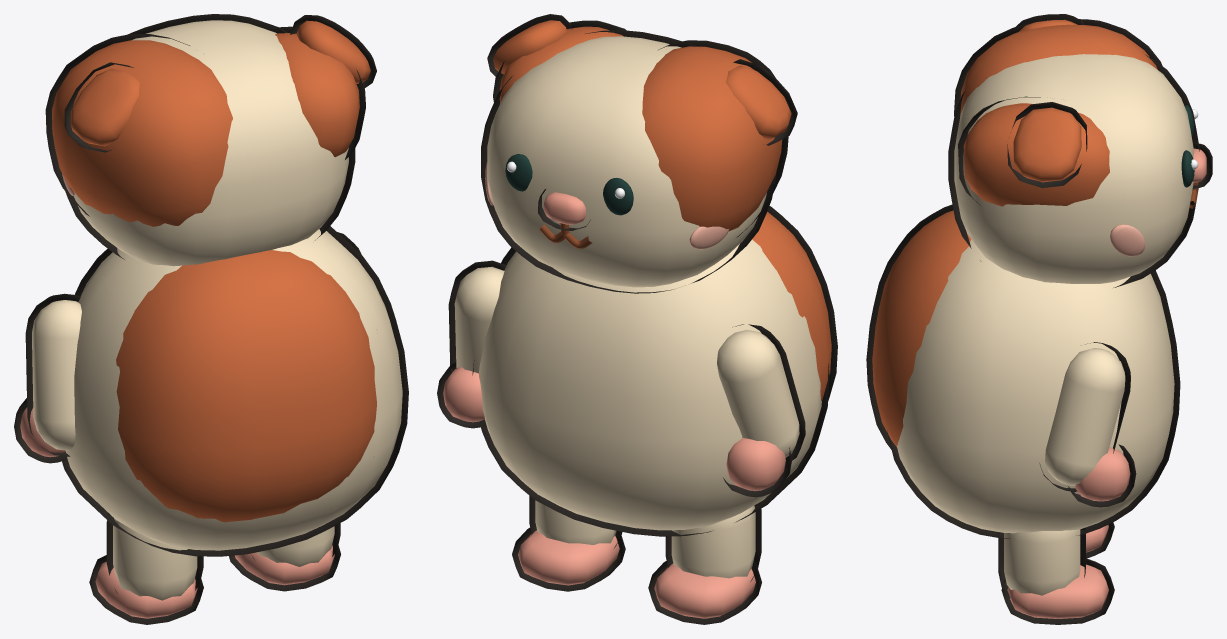
The model's file is guineapig.glb.
The picture shows the model from 3 angles, left to right: view 1: azimuth 30°, elevation 25°; view 2: azimuth 150°, elevation 25°; view 3: azimuth 270°, elevation 25°; orthographic projection. The views are drawn at different scales.
Visible parts, largest first — view 1: Torso_patch, Head_patch, Torso_fur, Head_fur, LeftArm_fur, Head_detail, Torso_detail, LeftLeg_fur, LeftLeg_pink, RightLeg_pink, LeftArm_detail, LeftLeg_detail (+3 smaller); view 2: Torso_fur, Head_fur, Head_patch, Head_detail, LeftArm_fur, Torso_patch, LeftLeg_fur, Torso_detail, LeftLeg_pink, RightLeg_pink, RightArm_fur, LeftArm_pink (+9 smaller); view 3: Torso_fur, Head_fur, Head_patch, Torso_patch, RightArm_fur, Head_detail, Torso_detail, RightLeg_fur, RightLeg_pink, RightArm_pink, RightLeg_detail, RightArm_detail.
Boxes of the visible parts, x1,y1,x2,y2 form: Torso_patch: (116,250,376,522); Head_patch: (52,20,370,226); Torso_fur: (65,229,402,550); Head_fur: (73,20,348,266); LeftArm_fur: (32,300,81,450); Head_detail: (45,14,376,259); Torso_detail: (62,226,408,556); LeftLeg_fur: (113,518,197,600); LeftLeg_pink: (95,561,197,618); RightLeg_pink: (235,545,334,585); LeftArm_detail: (14,293,80,463); LeftLeg_detail: (89,513,203,624); Torso_fur: (479,239,821,530); Head_fur: (487,36,766,287); Head_patch: (493,20,791,231); Head_detail: (481,14,797,293); LeftArm_fur: (717,330,799,457); Torso_patch: (752,211,831,401); LeftLeg_fur: (671,506,755,578); Torso_detail: (472,206,837,536); LeftLeg_pink: (654,563,755,618); RightLeg_pink: (518,530,619,585); RightArm_fur: (454,266,504,373); LeftArm_pink: (726,438,785,491); Torso_fur: (897,239,1174,533); Head_fur: (954,54,1194,283); Head_patch: (960,19,1157,206); Torso_patch: (872,210,971,446); RightArm_fur: (1045,348,1125,485); Head_detail: (948,14,1212,287); Torso_detail: (866,204,1180,538); RightLeg_fur: (1004,529,1080,595); RightLeg_pink: (1007,564,1108,618); RightArm_pink: (1074,447,1130,501); RightLeg_detail: (998,527,1114,624); RightArm_detail: (1039,342,1136,507).
Size of the model in its own units: 3.65 by 5.6 by 3.33.
14 materials, 1 textured.
